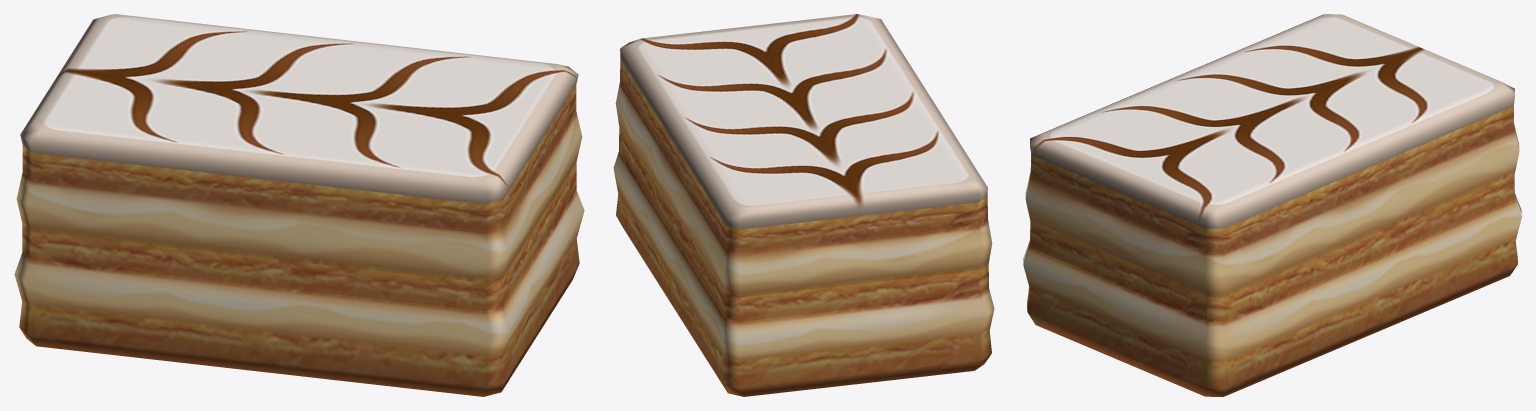
The model's file is 009-Napoleons_02.FBX.
3 renders of one model, left to right at view 1: azimuth 30°, elevation 25°; view 2: azimuth 150°, elevation 25°; view 3: azimuth 270°, elevation 25°, orthographic. The views are drawn at different scales.
Visible parts, largest first — view 1: 009-Napoleons_02; view 2: 009-Napoleons_02; view 3: 009-Napoleons_02.
Boxes of the visible parts, x1=… form: 009-Napoleons_02: x1=14, y1=14, x2=584, y2=396; 009-Napoleons_02: x1=613, y1=14, x2=994, y2=396; 009-Napoleons_02: x1=1023, y1=14, x2=1521, y2=396.
Bounding box in the file's own units: 17.75 × 7.29 × 17.75.
